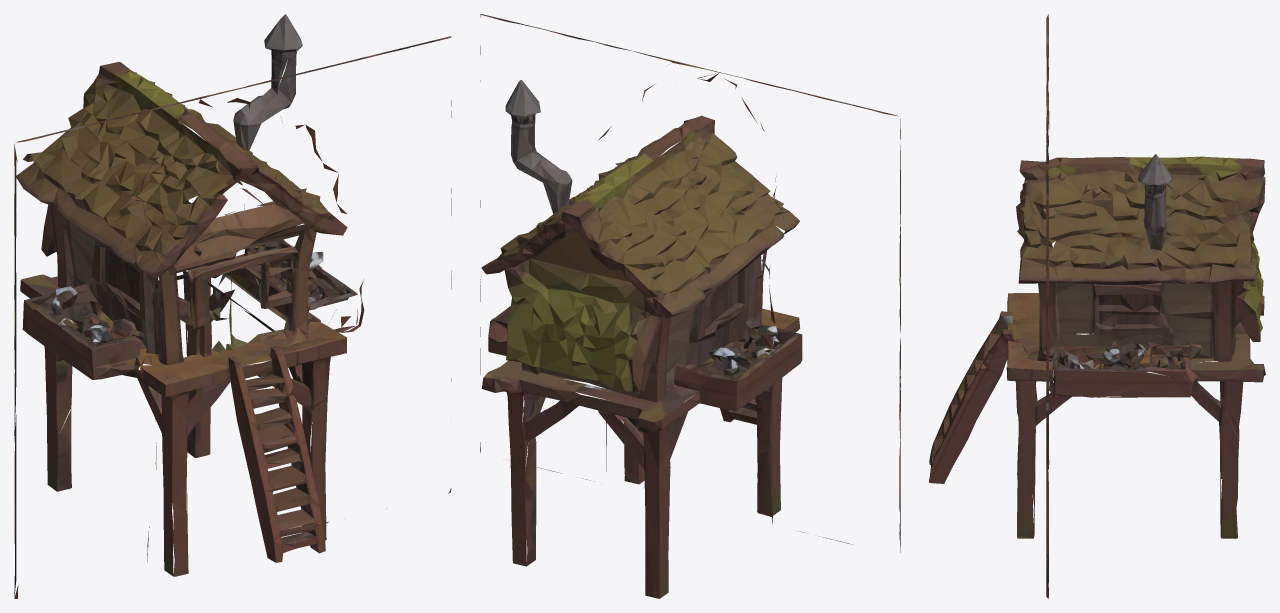
The model's file is hut_a.glb.
3 views of the same model, side by side, from view 1: azimuth 30°, elevation 25°; view 2: azimuth 150°, elevation 25°; view 3: azimuth 270°, elevation 25° (orthographic). The views are drawn at different scales.
Visible parts, largest first — view 1: geometry_0; view 2: geometry_0; view 3: geometry_0.
Part boxes in pixels (x1,y1,x2,y2): geometry_0: (14,14,451,598); geometry_0: (480,14,900,598); geometry_0: (929,14,1265,598).
Bounding box in the file's own units: 2.6 × 2.61 × 1.99.
1 material, 1 textured.
